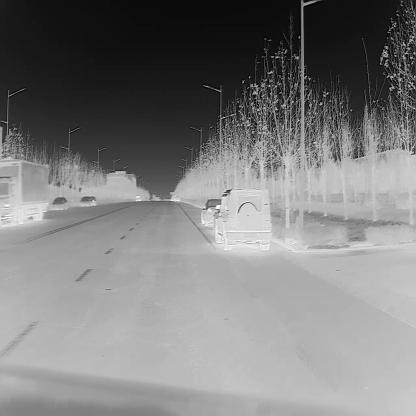bus: (135, 194, 141, 202)
car: (215, 186, 272, 252), (200, 199, 221, 225), (51, 196, 68, 209), (79, 195, 91, 207), (87, 196, 98, 207), (173, 197, 181, 202)
truck: (0, 157, 51, 226)
